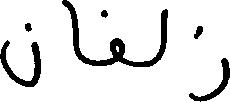X: (0, 18, 40, 91), (193, 21, 229, 101), (63, 0, 79, 64), (158, 4, 166, 65), (110, 33, 123, 69)
